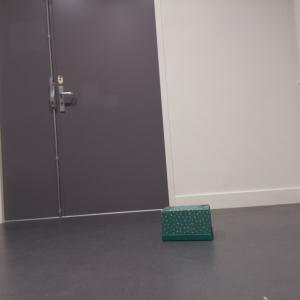small: (159, 203, 217, 243)
